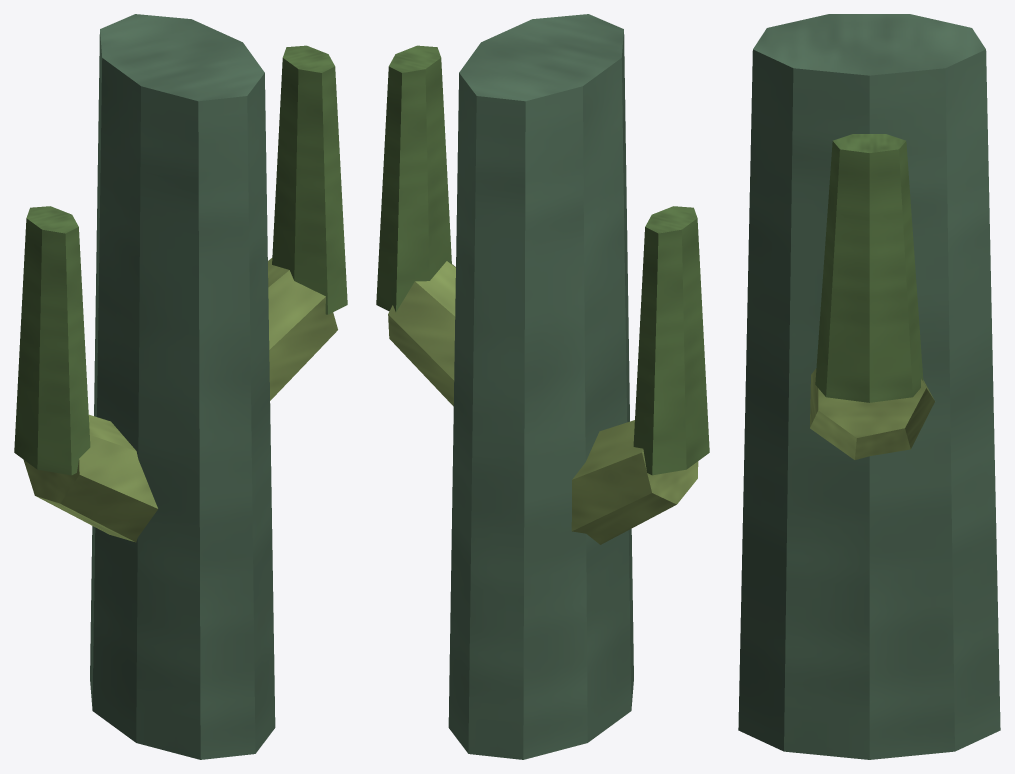
The model's file is cactus_set_02.fbx.
3 renders of one model, left to right at view 1: azimuth 30°, elevation 25°; view 2: azimuth 150°, elevation 25°; view 3: azimuth 270°, elevation 25°, orthographic. The views are drawn at different scales.
Visible parts, largest first — view 1: cactus_set_02; view 2: cactus_set_02; view 3: cactus_set_02.
Boxes of the visible parts, x1=… form: cactus_set_02: x1=14, y1=14, x2=347, y2=759; cactus_set_02: x1=376, y1=14, x2=709, y2=759; cactus_set_02: x1=738, y1=14, x2=1000, y2=759.
Size of the model in its own units: 77.33 by 155 by 54.
Materials: 1 (1 with a texture image).
